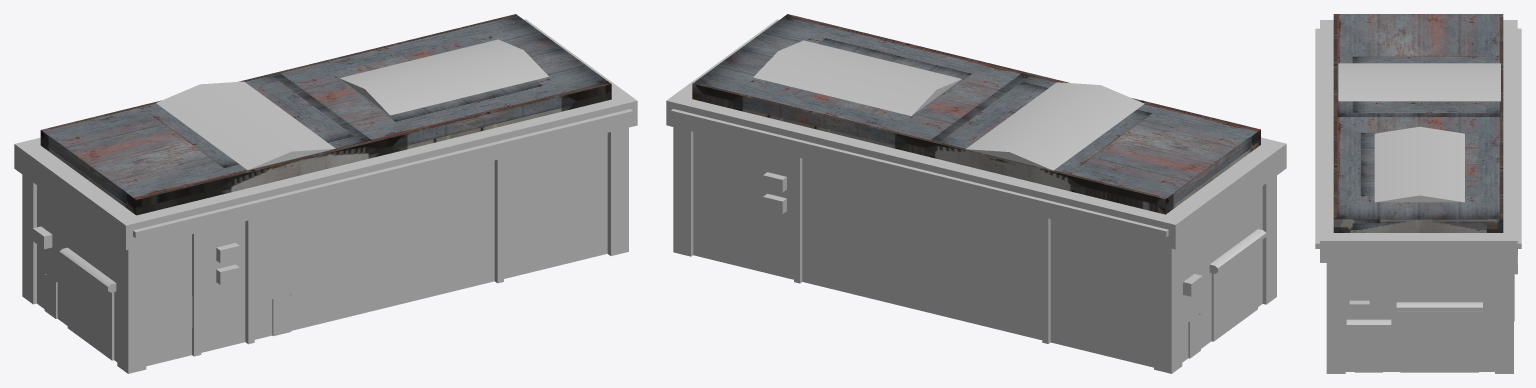
File: dz_industrial_01.fbx
3 renders of one model, left to right at view 1: azimuth 30°, elevation 25°; view 2: azimuth 150°, elevation 25°; view 3: azimuth 270°, elevation 25°, orthographic. The views are drawn at different scales.
Parts seen in each view (by area): view 1: dz_industrial_01_LOD0; view 2: dz_industrial_01_LOD0; view 3: dz_industrial_01_LOD0.
Boxes of the visible parts, box(x1,y1,x2,y2) form: dz_industrial_01_LOD0: box(14, 14, 637, 373); dz_industrial_01_LOD0: box(666, 14, 1286, 373); dz_industrial_01_LOD0: box(1315, 14, 1521, 373).
Size of what is drawn, in the model's own units: 33.83 by 11.12 by 13.36.
